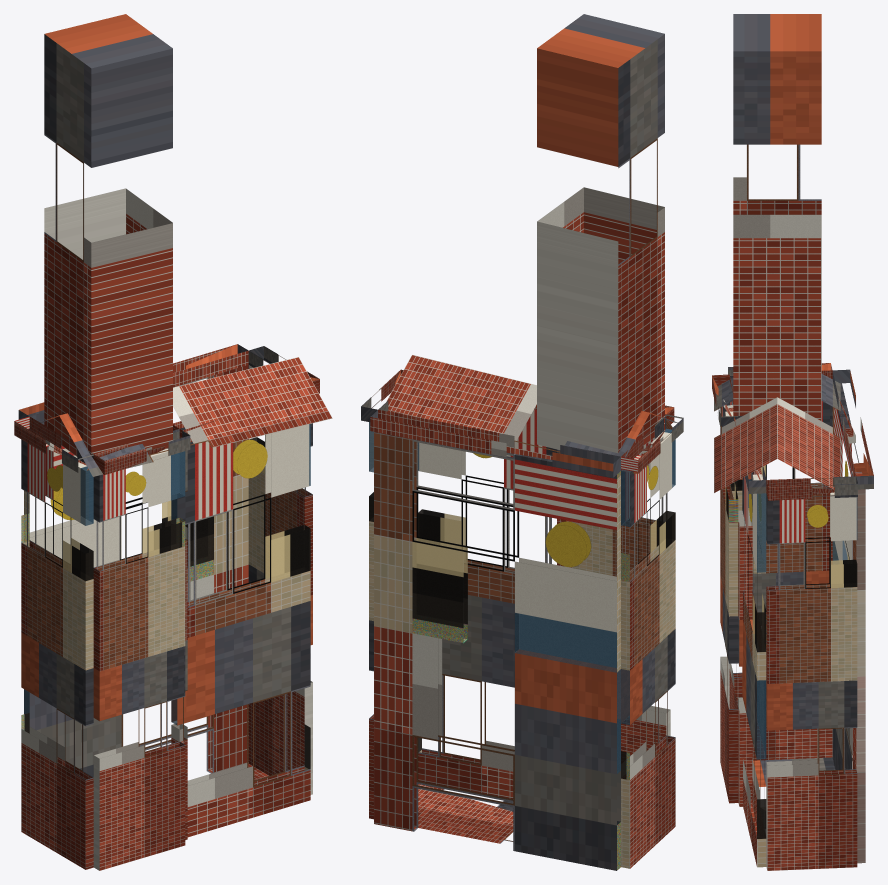
3 views of the same model, side by side, from view 1: azimuth 30°, elevation 25°; view 2: azimuth 150°, elevation 25°; view 3: azimuth 270°, elevation 25° (orthographic). The views are drawn at different scales.
Visible parts, largest first — view 1: 1106964381__chimney_0_xb, 1106964381__wall_0_xb, 1106964381__wall_2_xb, 1106964381__wall_3_xb, 1106964381__wall_4_xb, 1106964381_roof_-1_xb, 1106964381__wall_5_xb, 1106964381__wall_0_xf, 1106964381__cornice_4, 1106964381__wall_3_xf, 1106964381__wall_2_xf, 1106964381__cornice_3 (+4 smaller); view 2: 1106964381__wall_4_xb, 1106964381__chimney_0_xb, 1106964381__wall_3_xb, 1106964381__wall_0_xb, 1106964381__wall_4_xf, 1106964381_roof_1_xb, 1106964381__cornice_4, 1106964381__wall_2_xb, 1106964381__base, 1106964381__wall_3_xf, 1106964381__wall_5_xb, 1106964381__cornice_3 (+2 smaller); view 3: 1106964381__chimney_0_xb, 1106964381__wall_5_xb, 1106964381__wall_3_xb, 1106964381__wall_0_xb, 1106964381__wall_4_xb, 1106964381__wall_2_xb, 1106964381_roof_-1_xb, 1106964381_roof_1_xb, 1106964381__wall_1_xb, 1106964381__wall_0_xf, 1106964381__cornice_5, 1106964381__cornice_4 (+4 smaller).
Part boxes in pixels (x1,y1,x2,y2): 1106964381__chimney_0_xb: [44, 14, 172, 456]; 1106964381__wall_0_xb: [171, 424, 310, 837]; 1106964381__wall_2_xb: [93, 448, 185, 870]; 1106964381__wall_3_xb: [21, 439, 93, 869]; 1106964381__wall_4_xb: [24, 365, 248, 776]; 1106964381_roof_-1_xb: [59, 357, 332, 476]; 1106964381__wall_5_xb: [248, 365, 312, 794]; 1106964381__wall_0_xf: [171, 424, 310, 768]; 1106964381__cornice_4: [18, 344, 248, 429]; 1106964381__wall_3_xf: [22, 467, 93, 732]; 1106964381__wall_2_xf: [143, 451, 184, 556]; 1106964381__cornice_3: [14, 416, 93, 472]; 1106964381__wall_4_xb: [374, 432, 620, 870]; 1106964381__chimney_0_xb: [537, 14, 664, 453]; 1106964381__wall_3_xb: [621, 429, 675, 868]; 1106964381__wall_0_xb: [418, 409, 569, 798]; 1106964381__wall_4_xf: [413, 472, 620, 869]; 1106964381_roof_1_xb: [386, 355, 649, 457]; 1106964381__cornice_4: [370, 409, 620, 477]; 1106964381__wall_2_xb: [571, 438, 670, 755]; 1106964381__base: [418, 784, 513, 843]; 1106964381__wall_3_xf: [621, 429, 675, 779]; 1106964381__wall_5_xb: [369, 422, 417, 819]; 1106964381__cornice_3: [621, 414, 683, 473]; 1106964381__chimney_0_xb: [733, 14, 821, 420]; 1106964381__wall_5_xb: [766, 492, 857, 870]; 1106964381__wall_3_xb: [730, 401, 832, 760]; 1106964381__wall_0_xb: [742, 471, 766, 867]; 1106964381__wall_4_xb: [832, 383, 865, 863]; 1106964381__wall_2_xb: [720, 401, 738, 803]; 1106964381_roof_-1_xb: [714, 373, 777, 492]; 1106964381_roof_1_xb: [777, 374, 840, 489]; 1106964381__wall_1_xb: [738, 473, 752, 806]; 1106964381__wall_0_xf: [748, 479, 765, 838]; 1106964381__cornice_5: [766, 476, 857, 500]; 1106964381__cornice_4: [832, 369, 873, 489].
Size of the model in its own units: 0.5 by 1.4 by 0.2749.
1 material, 1 textured.
